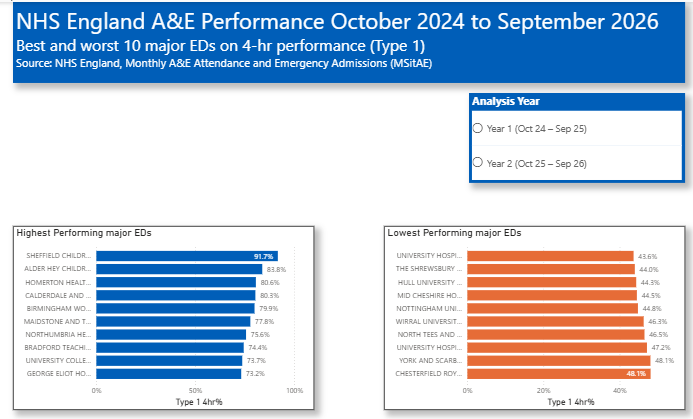

The page's visual inventory and layout, read from the dashboard file:
{"tool":"powerbi","page":{"name":"Trust Variation","canvas":[1280,720],"ordinal":1},"visuals":[{"type":"textbox","box":[52.1,0,1128.8,136.1],"z":0},{"type":"listSlicer","title":"Analysis Year","fields":{"Values":["DateTable.Analysis Year"]},"box":[818.1,152.9,362.8,151.2],"z":1000},{"type":"clusteredBarChart","title":"Highest Performing major EDs","fields":{"Y":["Measures (2).Type 1 4hr%"],"Category":["AE_MONTHLY.Trust Name"]},"box":[52.1,376.3,505.6,309.1],"z":2000},{"type":"clusteredBarChart","title":"Lowest Performing major EDs","fields":{"Y":["Measures (2).Type 1 4hr%"],"Category":["AE_MONTHLY.Trust Name"]},"box":[675.3,376.3,505.6,309.1],"z":3000}]}

Visuals, with their boxes on the page's 1280x720 design canvas (x1, y1, x2, y2). These are canvas units, not pixel positions in the 693x419 screenshot, which may show the page scaled, cropped or inside an application window:
textbox: pyautogui.locateOnScreen(52, 0, 1181, 136)
"Analysis Year" listSlicer: pyautogui.locateOnScreen(818, 153, 1181, 304)
"Highest Performing major EDs" clusteredBarChart: pyautogui.locateOnScreen(52, 376, 558, 685)
"Lowest Performing major EDs" clusteredBarChart: pyautogui.locateOnScreen(675, 376, 1181, 685)
